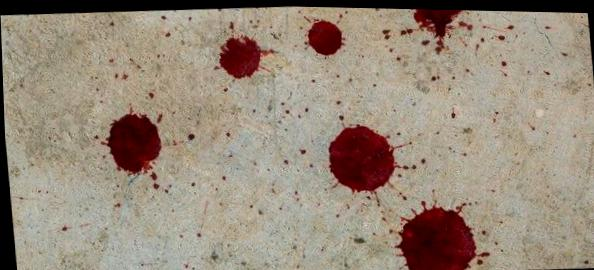Fire: (392, 199, 489, 270), (327, 121, 401, 192), (99, 106, 161, 174), (213, 33, 270, 78), (414, 7, 463, 50), (307, 17, 345, 54)
